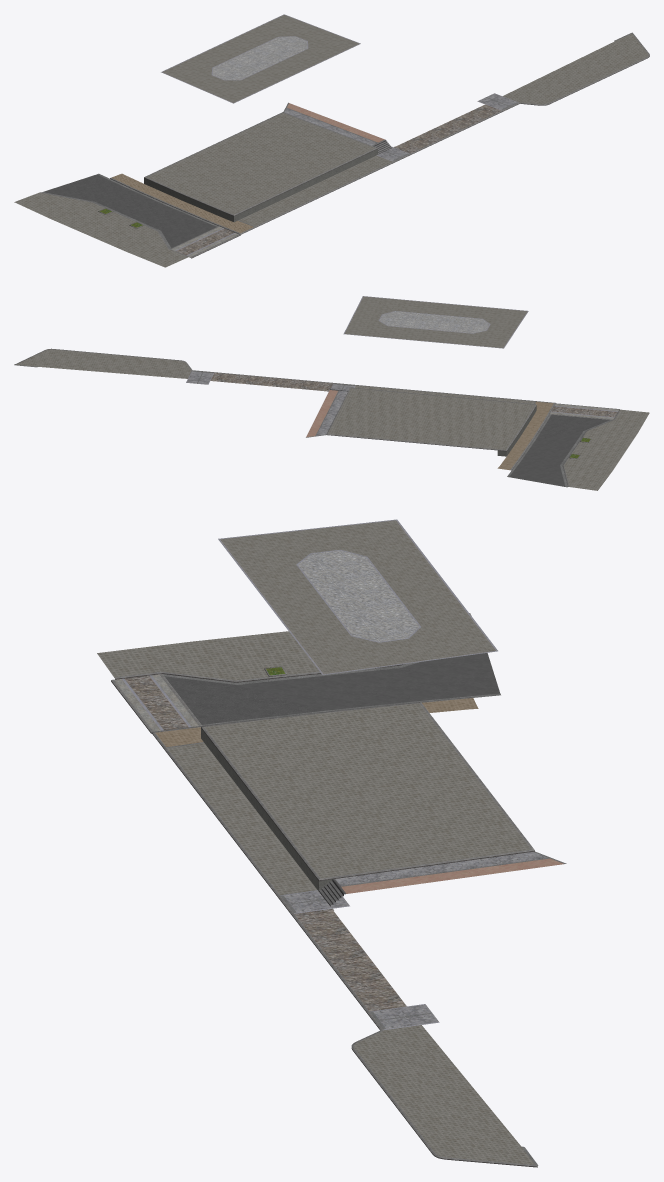
3 renders of one model, top to bottom at view 1: azimuth 30°, elevation 25°; view 2: azimuth 150°, elevation 25°; view 3: azimuth 270°, elevation 25°, orthographic. The views are drawn at different scales.
Visible parts, largest first — view 1: um_t1_g06_2_model_t1_g06_2_modelShape; view 2: um_t1_g06_2_model_t1_g06_2_modelShape; view 3: um_t1_g06_2_model_t1_g06_2_modelShape.
Part boxes in pixels (bbox=[...]): um_t1_g06_2_model_t1_g06_2_modelShape: bbox=[14, 14, 649, 267]; um_t1_g06_2_model_t1_g06_2_modelShape: bbox=[14, 296, 649, 490]; um_t1_g06_2_model_t1_g06_2_modelShape: bbox=[97, 519, 566, 1167].
Size of the model in its own units: 139 by 24.14 by 50.06.
Materials: 11 (11 with a texture image).
